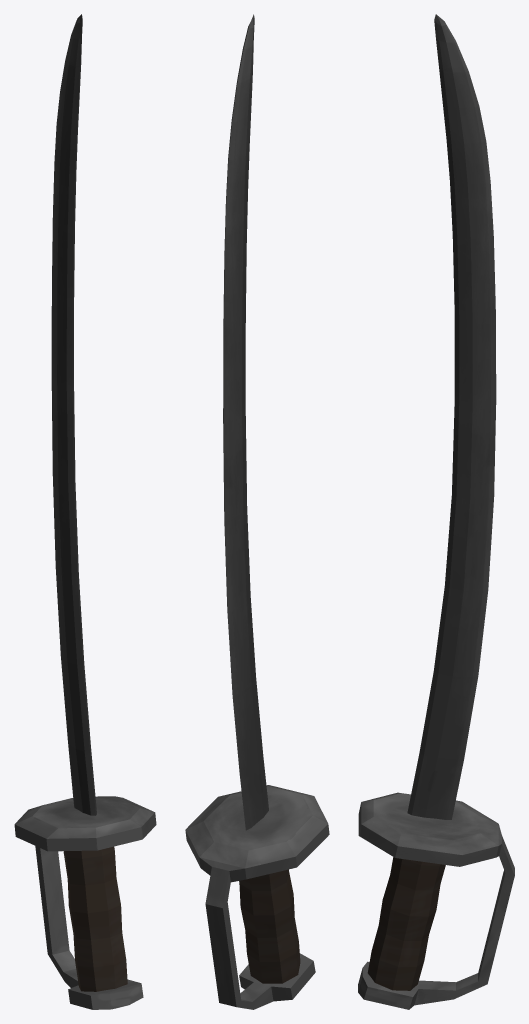
File: cutlass.obj
3 renders of one model, left to right at view 1: azimuth 30°, elevation 25°; view 2: azimuth 150°, elevation 25°; view 3: azimuth 270°, elevation 25°, orthographic.
Visible parts, largest first — view 1: Circle, Cylinder.001, Cylinder; view 2: Circle, Cylinder.001, Cylinder; view 3: Circle, Cylinder.001, Cylinder.
Boxes of the visible parts, bbox=[...] form: Circle: bbox=[51, 14, 96, 815]; Cylinder.001: bbox=[14, 796, 156, 1009]; Cylinder: bbox=[63, 846, 127, 991]; Circle: bbox=[223, 14, 268, 830]; Cylinder.001: bbox=[185, 785, 329, 1009]; Cylinder: bbox=[239, 869, 300, 983]; Circle: bbox=[407, 14, 496, 819]; Cylinder.001: bbox=[358, 792, 514, 1009]; Cylinder: bbox=[367, 857, 445, 990].
Size of the model in its own units: 0.3699 by 3.18 by 0.4571.
